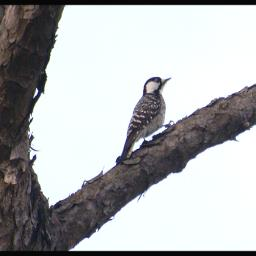Woodpecker: (111, 71, 178, 170)
